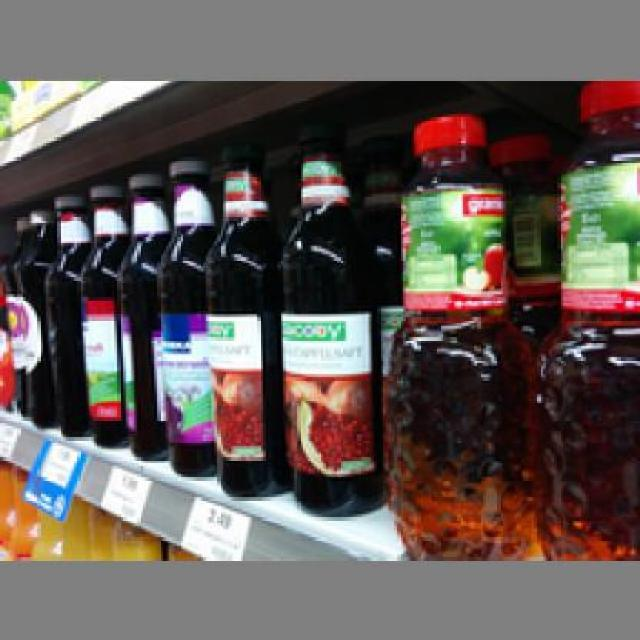Juice: (377, 111, 537, 552), (532, 80, 638, 557), (274, 113, 374, 510), (203, 140, 283, 497), (152, 154, 212, 477), (43, 189, 86, 440)
